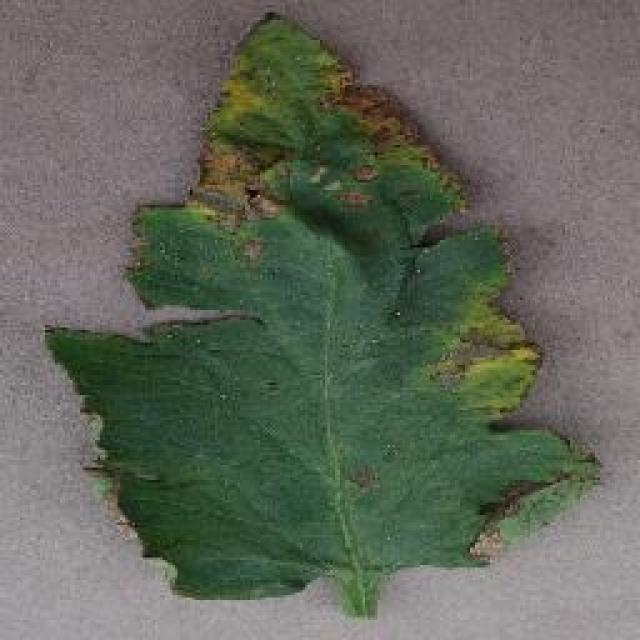Tomato___Bacterial_spot: (38, 12, 609, 622)
